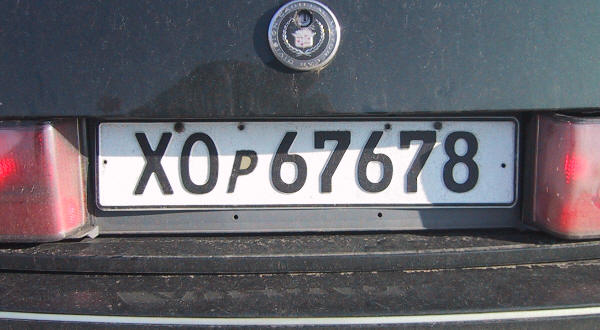license_plate: (95, 117, 515, 209)
